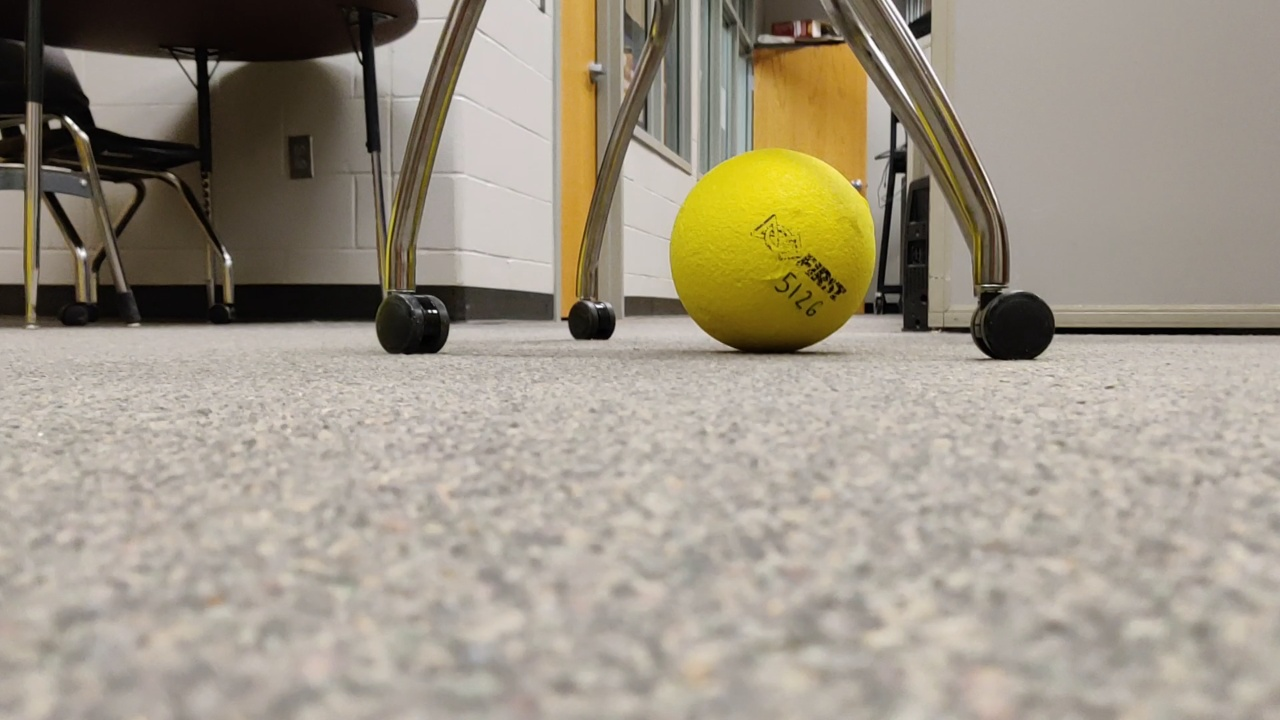Ball: (662, 141, 881, 353)
